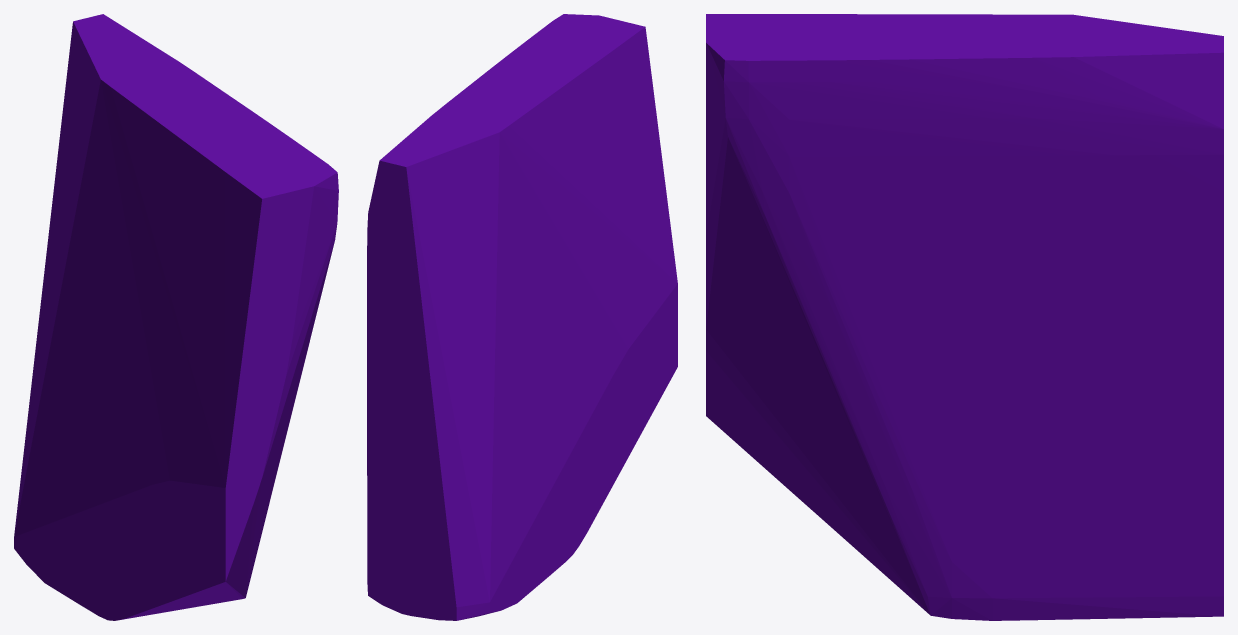
File: left-shoulder-pitch-0_part_114.obj
3 views of the same model, side by side, from view 1: azimuth 30°, elevation 25°; view 2: azimuth 150°, elevation 25°; view 3: azimuth 270°, elevation 25° (orthographic). The views are drawn at different scales.
Bounding box in the file's own units: 0.00809 × 0.0317 × 0.0258.
